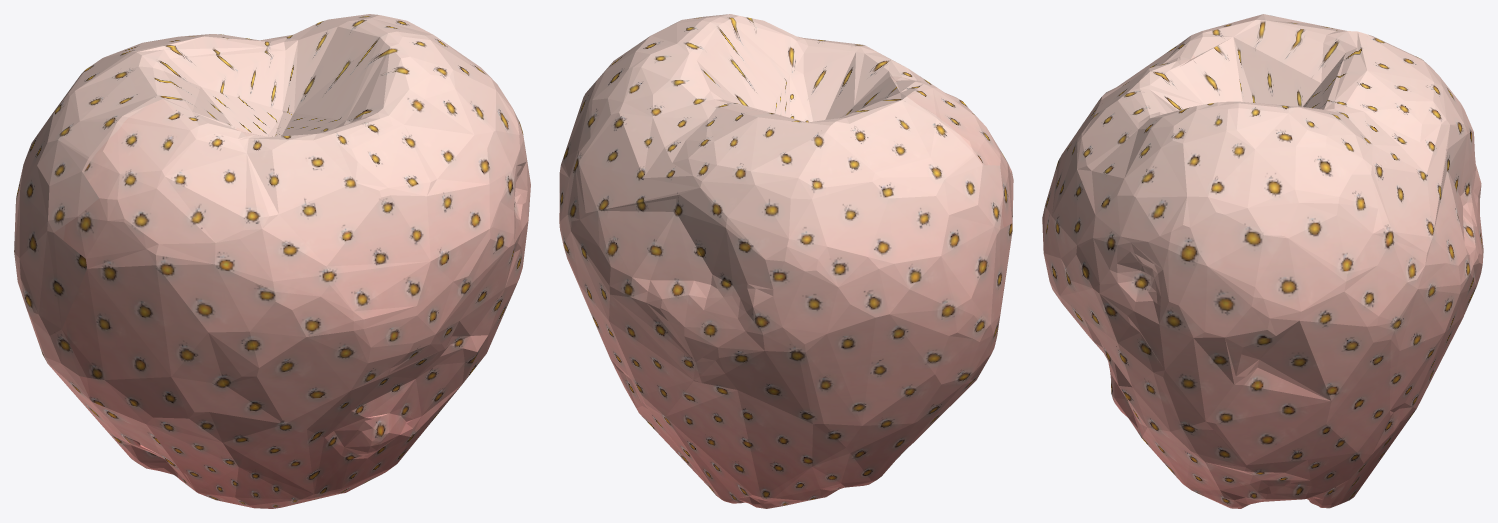
The picture shows the model from 3 angles, left to right: view 1: azimuth 30°, elevation 25°; view 2: azimuth 150°, elevation 25°; view 3: azimuth 270°, elevation 25°; orthographic projection. The views are drawn at different scales.
Visible parts, largest first — view 1: _002_Meshed; view 2: _002_Meshed; view 3: _002_Meshed.
Boxes of the visible parts, x1=… form: _002_Meshed: x1=14, y1=14, x2=530, y2=508; _002_Meshed: x1=559, y1=14, x2=1013, y2=508; _002_Meshed: x1=1042, y1=14, x2=1483, y2=508.
Size of the model in its own units: 0.1 by 0.0879 by 0.0956.
Materials: 1 (1 with a texture image).
